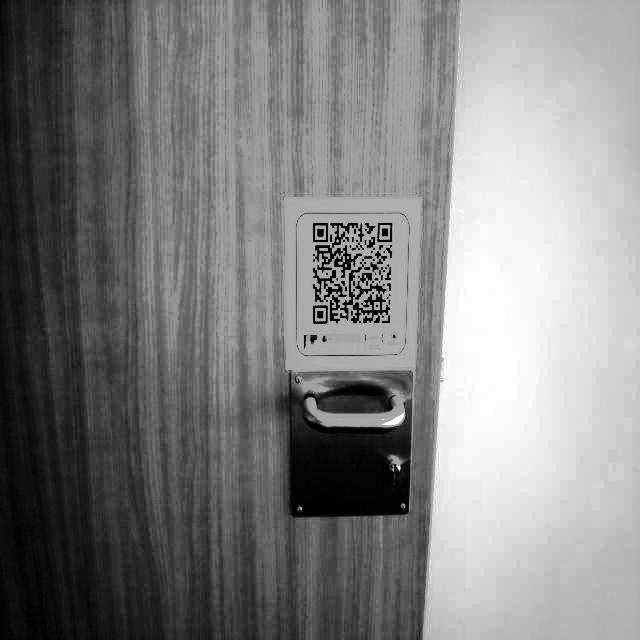qr_code: (313, 223, 392, 324)
